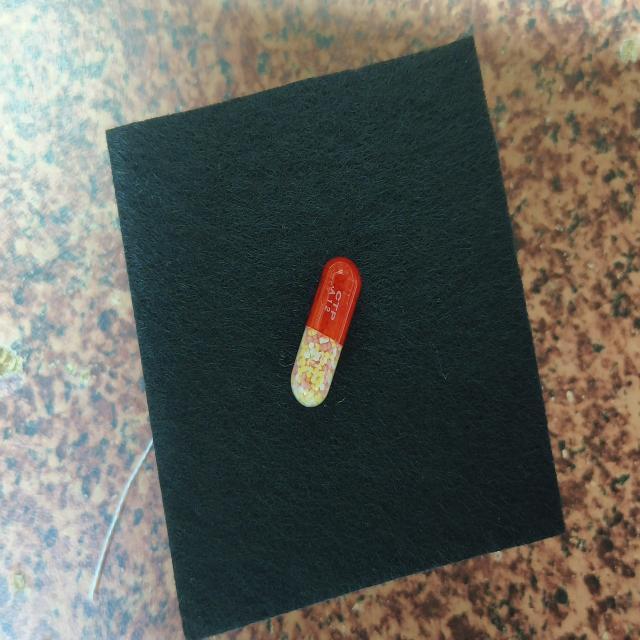Intact Capsule: (291, 257, 361, 407)
